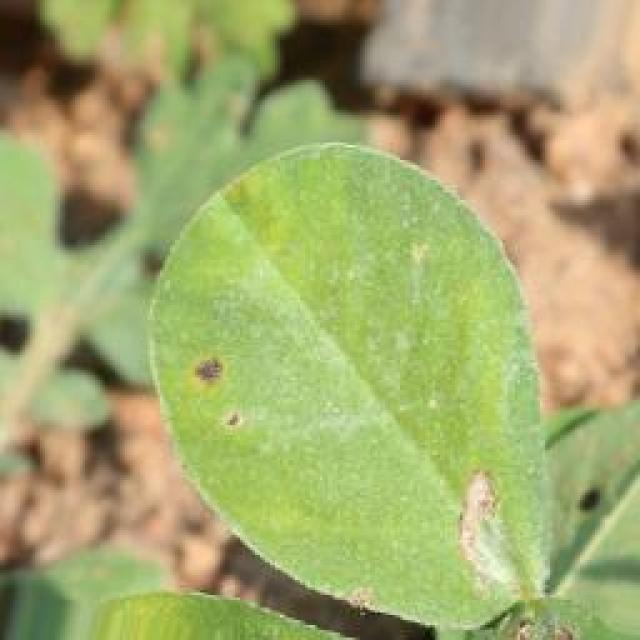Early_leaf_spot: (399, 446, 554, 640), (182, 332, 265, 465)
